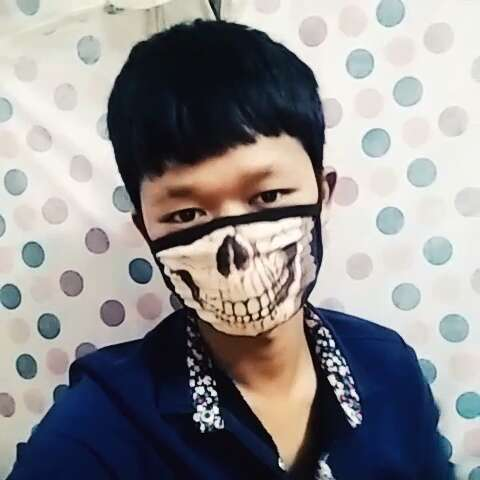face_mask: (147, 124, 319, 335)
